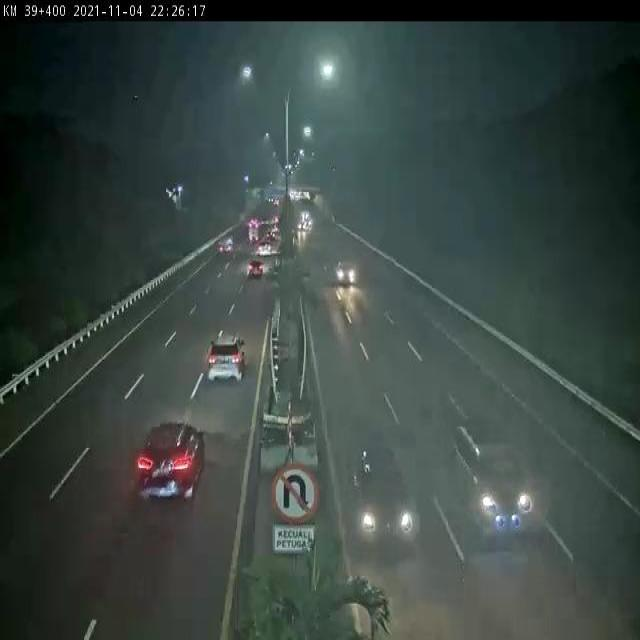car: (341, 445, 438, 548), (463, 420, 542, 541), (145, 418, 208, 511), (202, 331, 247, 384), (331, 264, 361, 293)
